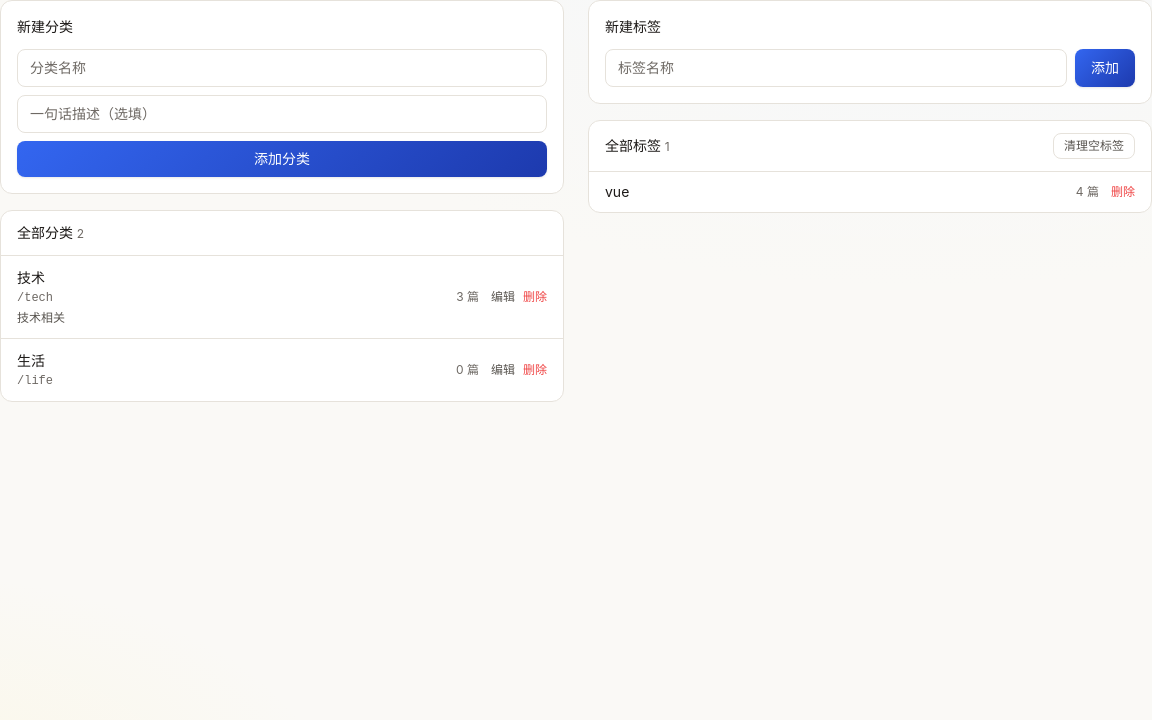
Test: TaxonomyView · 删除 › 点删除分类只开确认框，文案里带上名称与文章数
Click the button "删除" in the row of "3 篇".
click(535, 297)  # box [523, 289, 547, 305]
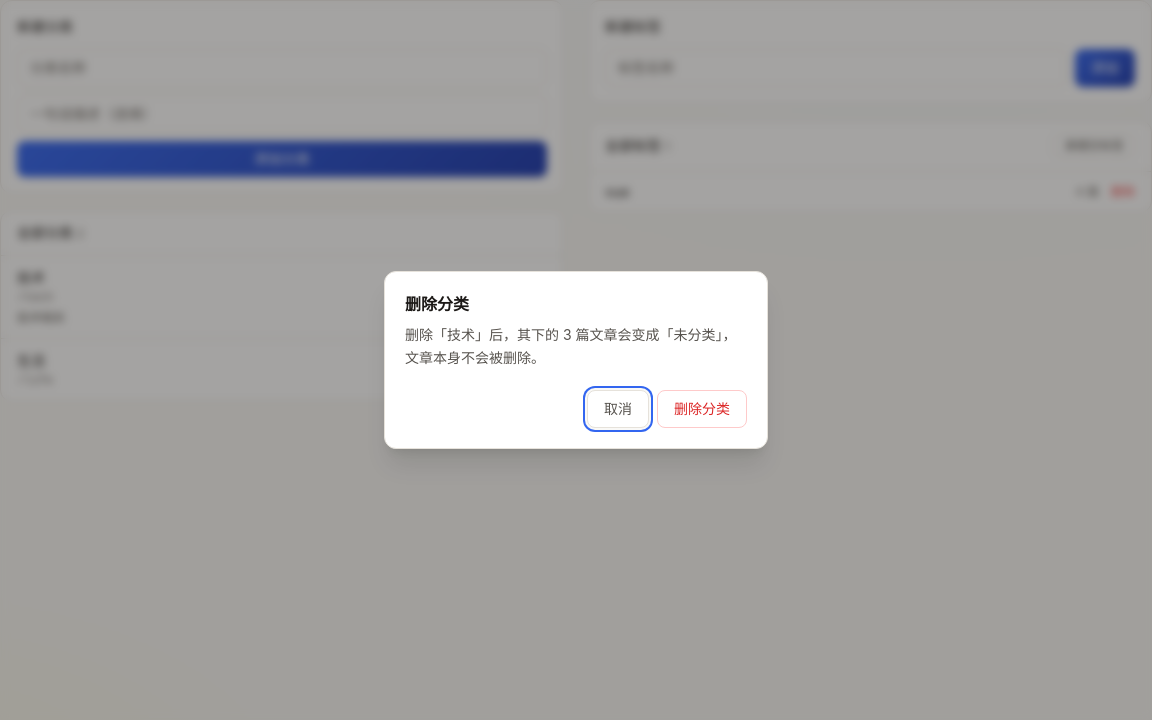
Result: the dialog shows "技术" at [405, 326, 736, 366]
Result: the dialog shows "3 篇文章" at [405, 326, 736, 366]
Result: the dialog shows "文章本身不会被删除" at [405, 326, 736, 366]
